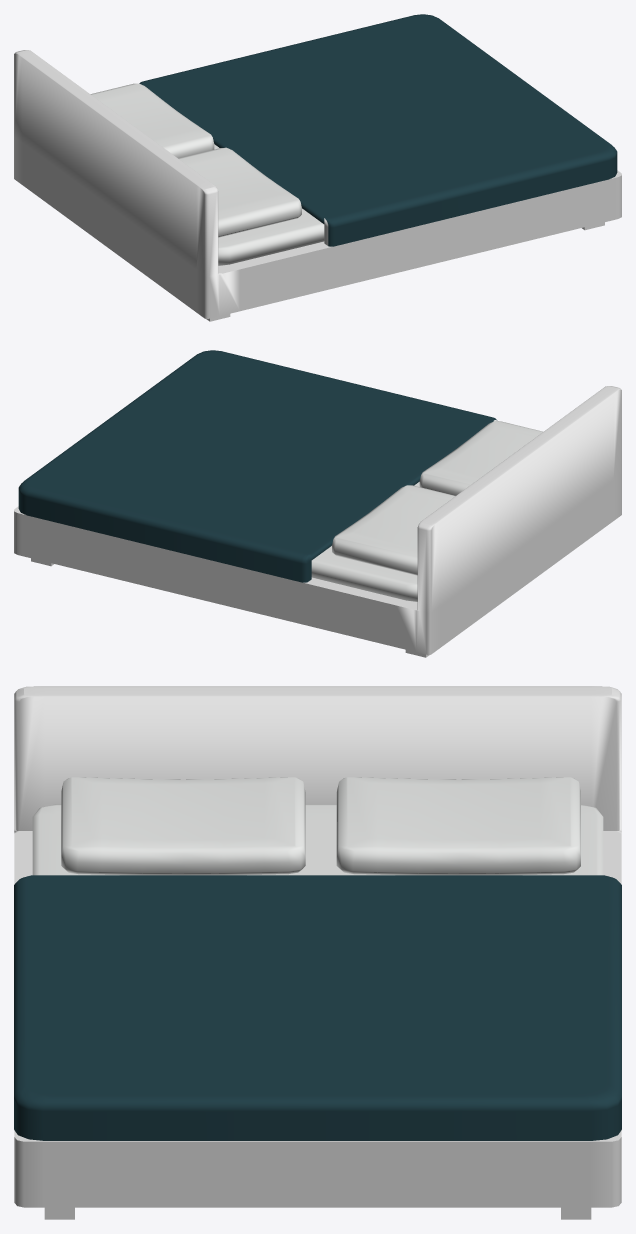
The model's file is BlusRoom_Bed.fbx.
The picture shows the model from 3 angles, top to bottom: view 1: azimuth 30°, elevation 25°; view 2: azimuth 150°, elevation 25°; view 3: azimuth 270°, elevation 25°; orthographic projection. The views are drawn at different scales.
Parts seen in each view (by area): view 1: Bed.001; view 2: Bed.001; view 3: Bed.001.
Part boxes in pixels (left/top/right/bottom): Bed.001: left=14, top=14, right=621, bottom=321; Bed.001: left=14, top=350, right=621, bottom=657; Bed.001: left=14, top=686, right=621, bottom=1219.
Bounding box in the file's own units: 250 × 80 × 200.
